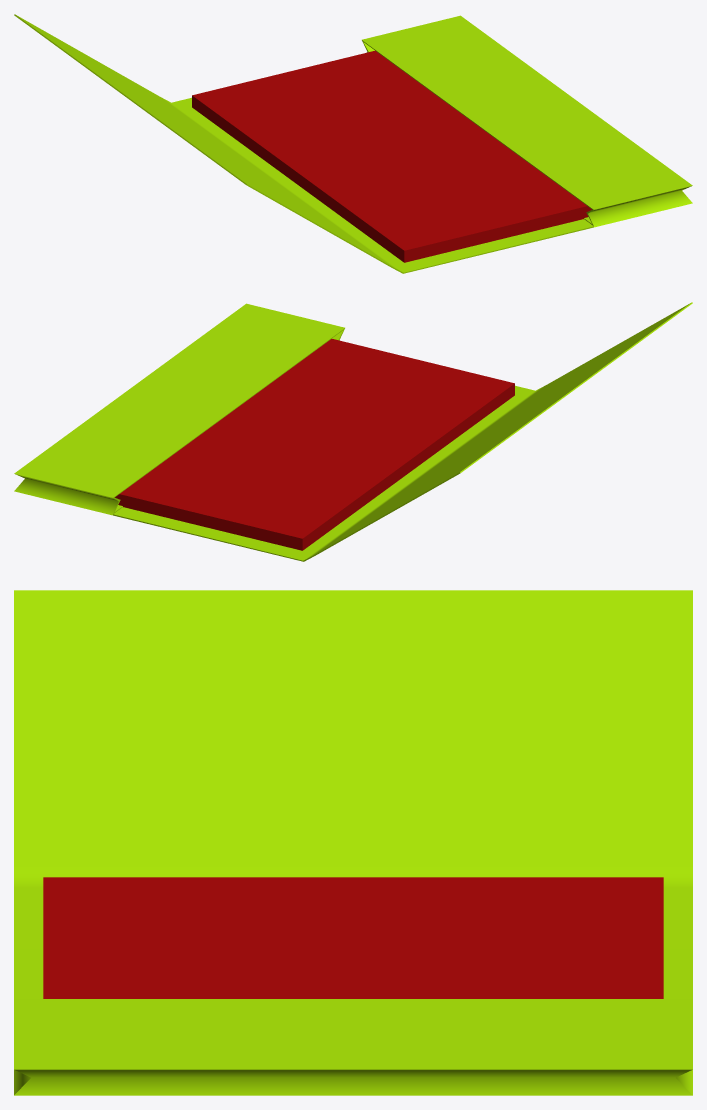
The model's file is fbx_Chemisette.fbx.
3 renders of one model, top to bottom at view 1: azimuth 30°, elevation 25°; view 2: azimuth 150°, elevation 25°; view 3: azimuth 270°, elevation 25°, orthographic. The views are drawn at different scales.
Parts seen in each view (by area): view 1: pCube12; view 2: pCube12; view 3: pCube12.
Boxes of the visible parts, box(x1,y1,x2,y2) form: pCube12: box(14, 14, 692, 273); pCube12: box(14, 302, 692, 561); pCube12: box(14, 590, 692, 1095).
Size of the model in its own units: 36.07 by 9.88 by 32.5.
